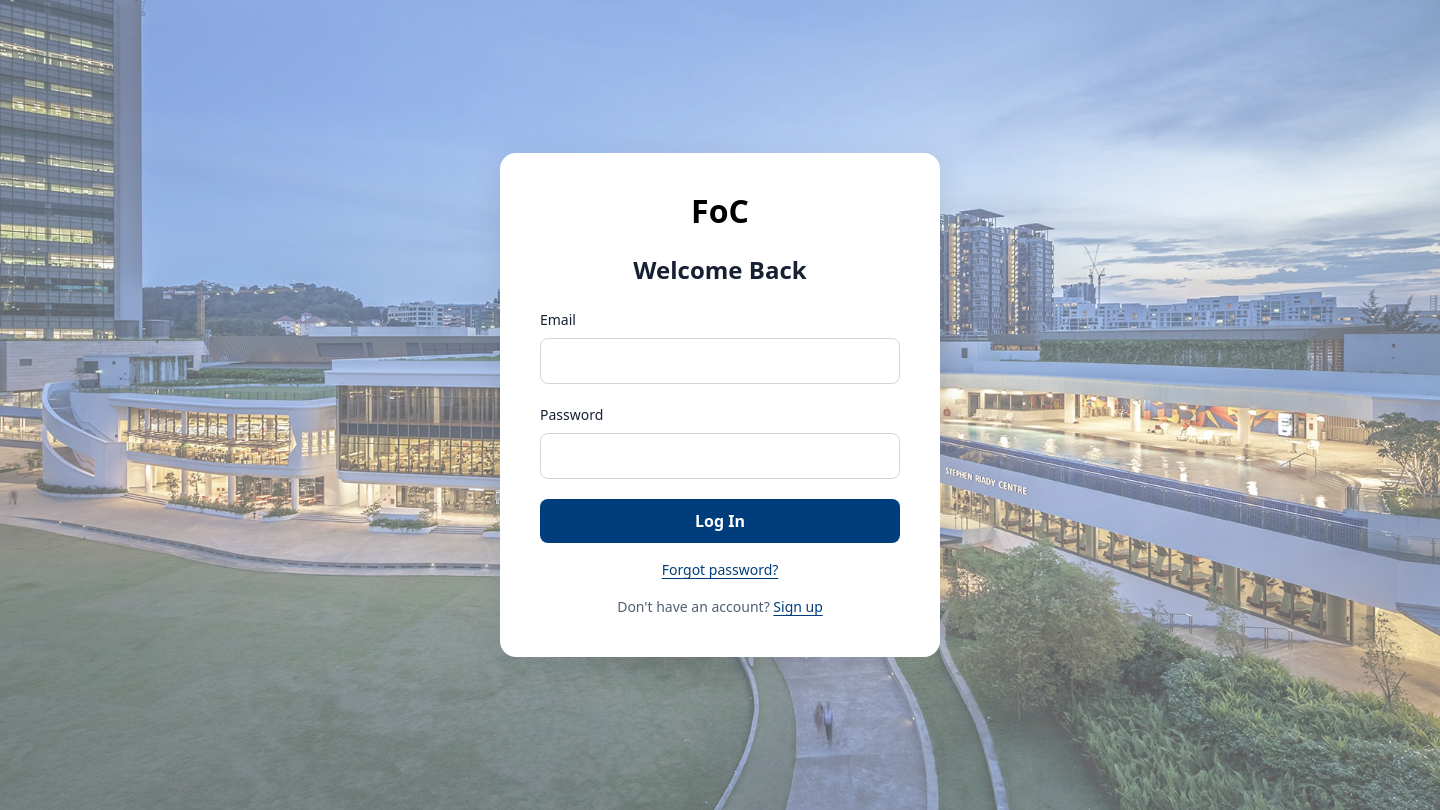
Test: LoginPage › handles HTTP 400 without exposing server details
The width and height of the screenshot is (1440, 810).
Check: the heading "Welcome Back" is shown, box left=633, top=253, right=807, bottom=286
In the field labelled "Email": (720, 361) left=540, top=338, right=900, bottom=384, type " JAMIE@EXAMPLE.COM "
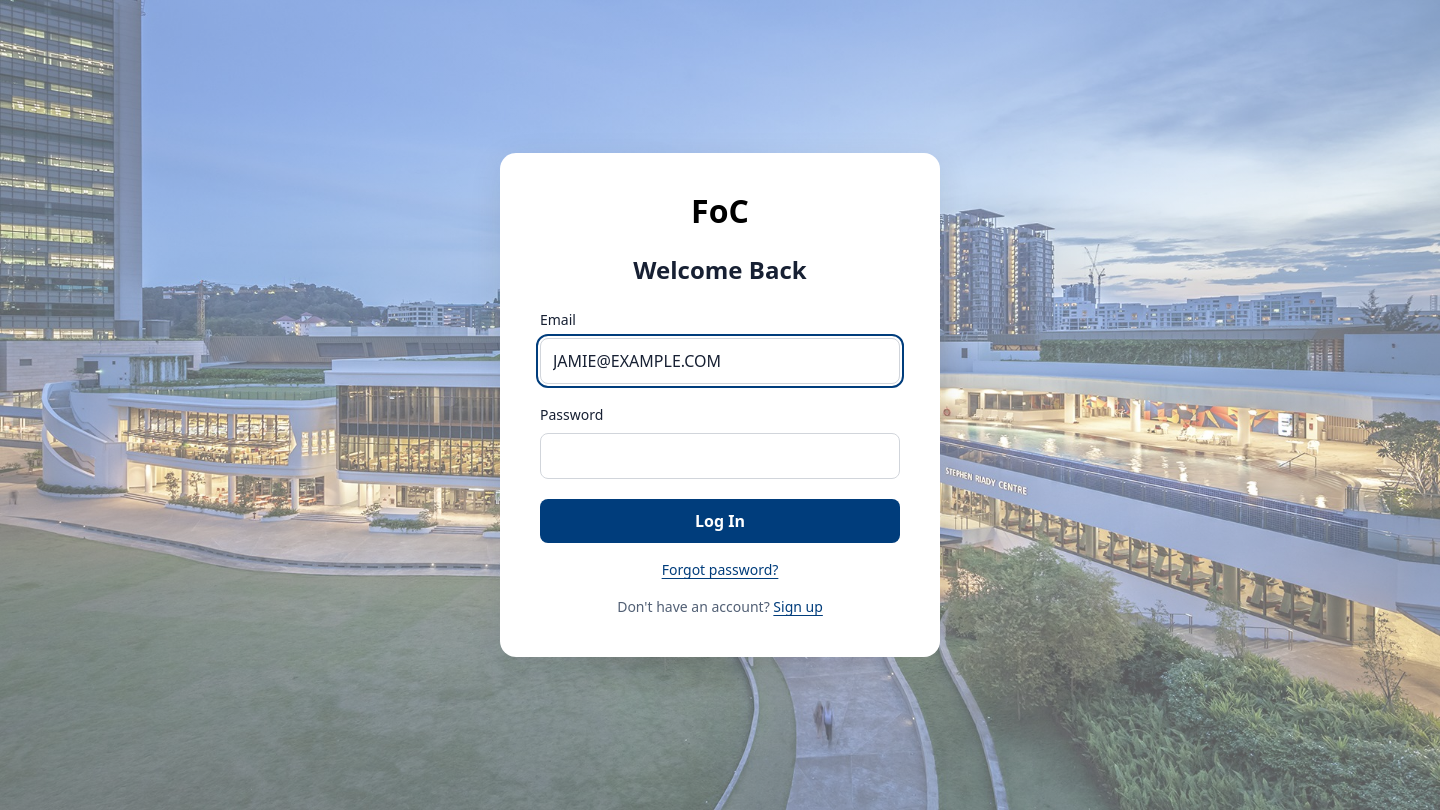
In the password field labelled "Password": (720, 456) left=540, top=433, right=900, bottom=479, type " password123 "
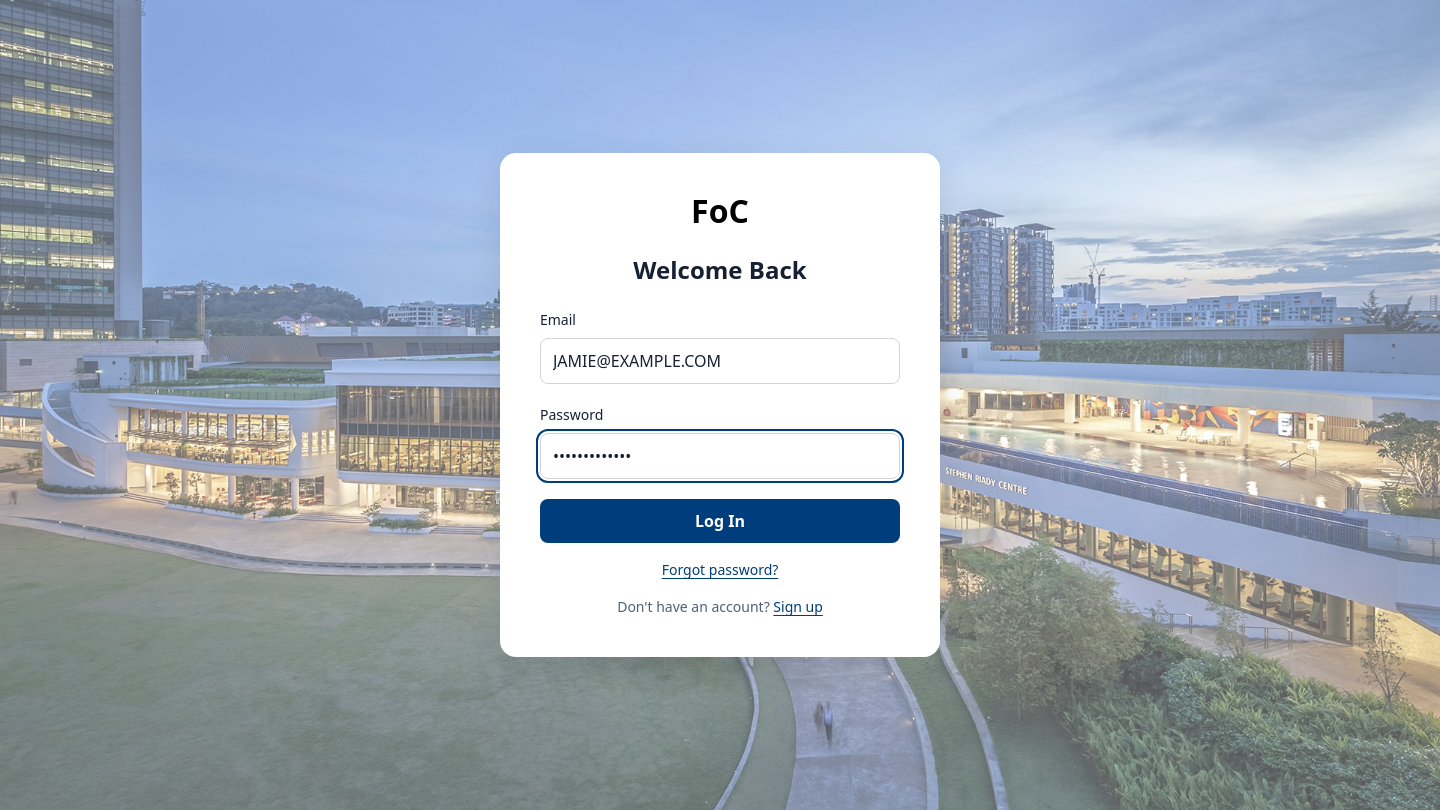
Click the button "Log In": (720, 521) left=540, top=499, right=900, bottom=543
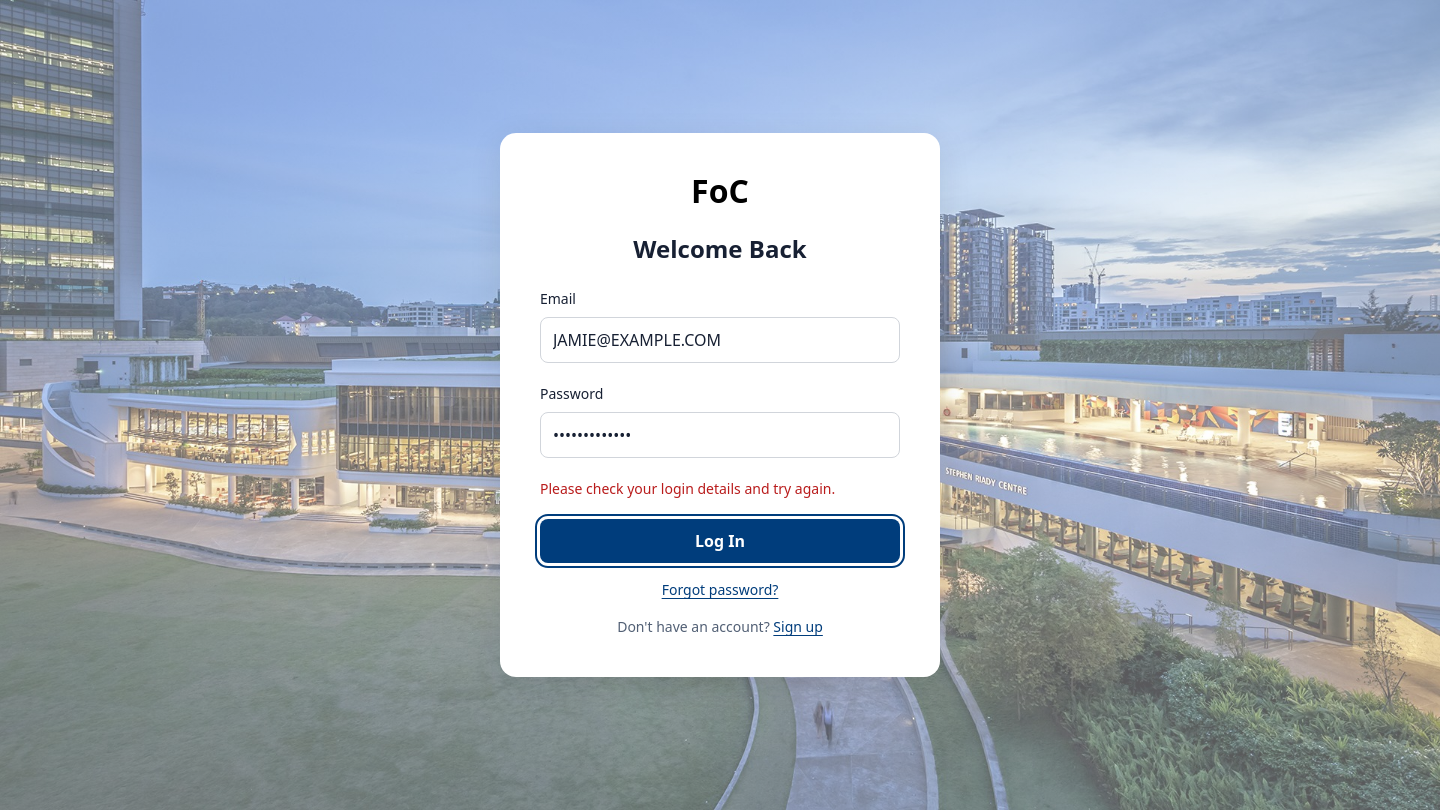
Check: the button "Log In" is enabled, box left=540, top=520, right=900, bottom=564
Check: the message reads "Please check your login details and try again.", box left=540, top=480, right=835, bottom=498
